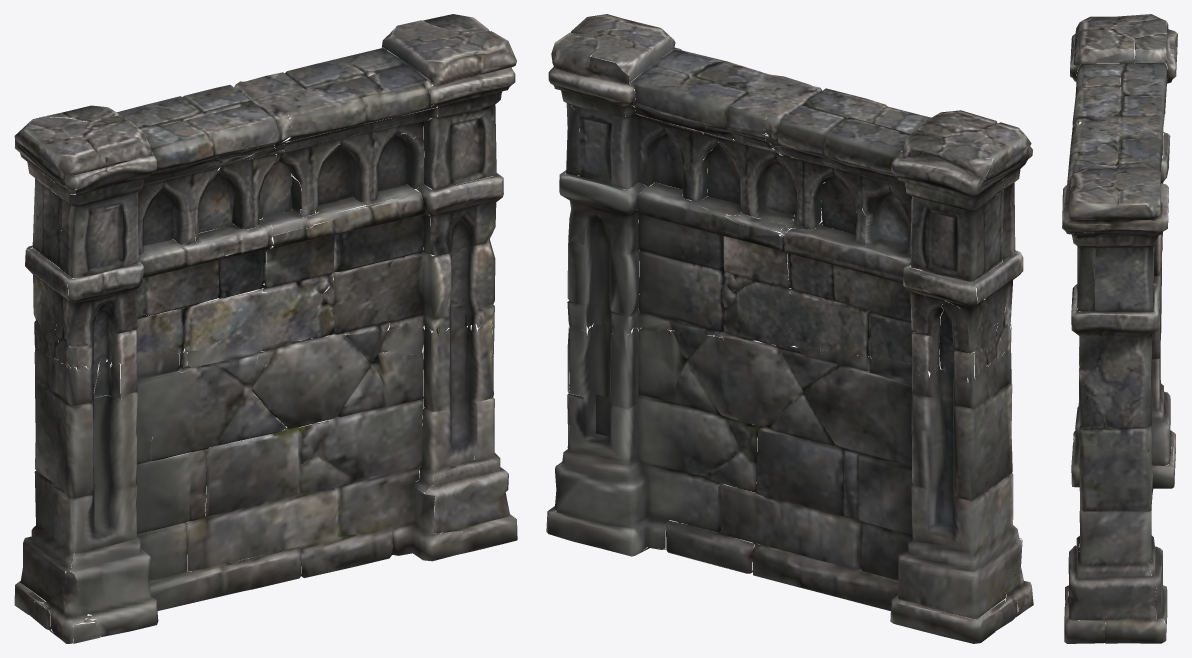
Rendered from Valoria_WallSegment_v2.glb.
3 views of the same model, side by side, from view 1: azimuth 30°, elevation 25°; view 2: azimuth 150°, elevation 25°; view 3: azimuth 270°, elevation 25° (orthographic). The views are drawn at different scales.
Visible parts, largest first — view 1: WallV2 · 000 · Eldoria_MultiPiece_Group_05; view 2: WallV2 · 000 · Eldoria_MultiPiece_Group_05; view 3: WallV2 · 000 · Eldoria_MultiPiece_Group_05.
Part boxes in pixels (left/top/right/bottom): WallV2 · 000 · Eldoria_MultiPiece_Group_05: left=14, top=14, right=517, bottom=643; WallV2 · 000 · Eldoria_MultiPiece_Group_05: left=546, top=14, right=1033, bottom=643; WallV2 · 000 · Eldoria_MultiPiece_Group_05: left=1062, top=14, right=1177, bottom=643.
Bounding box in the file's own units: 2.24 × 2.35 × 0.5559.
Materials: 1 (1 with a texture image).
